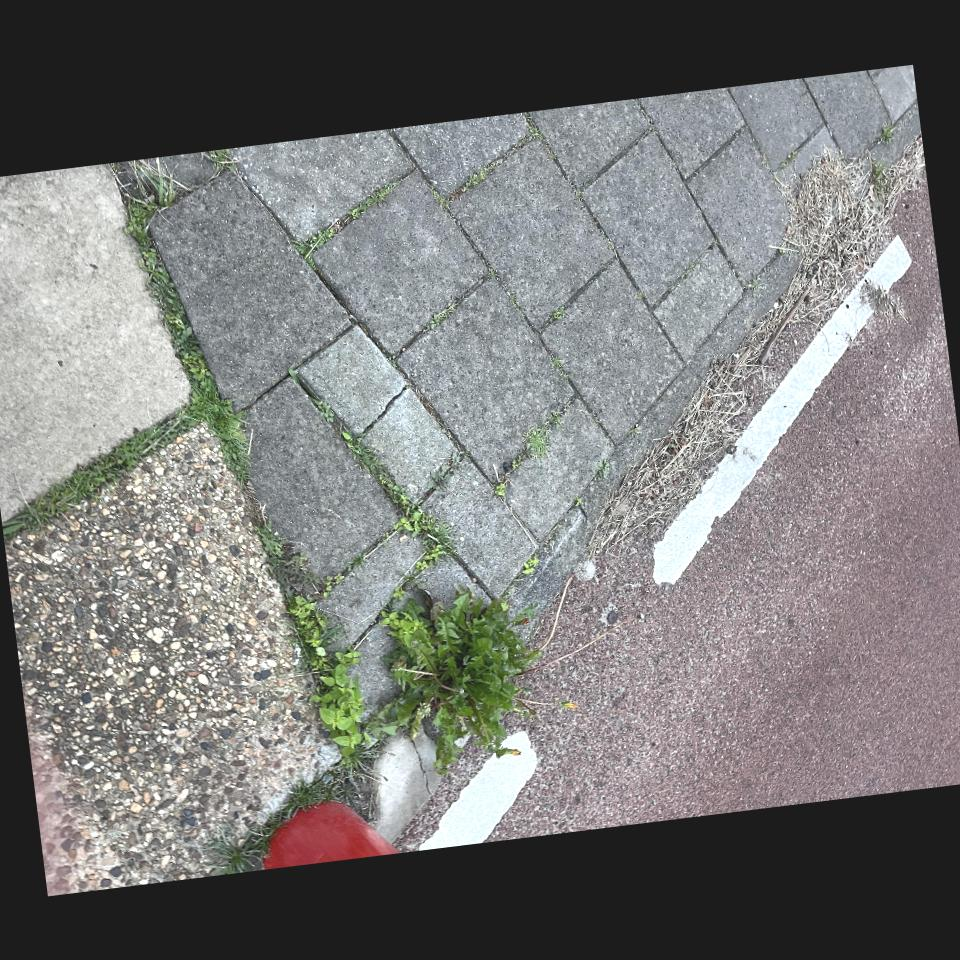weed: (590, 143, 925, 551), (2, 200, 248, 538), (368, 589, 538, 771), (211, 765, 362, 874), (342, 431, 437, 535), (293, 181, 399, 267), (310, 659, 362, 755), (288, 594, 331, 670), (426, 537, 453, 555)
